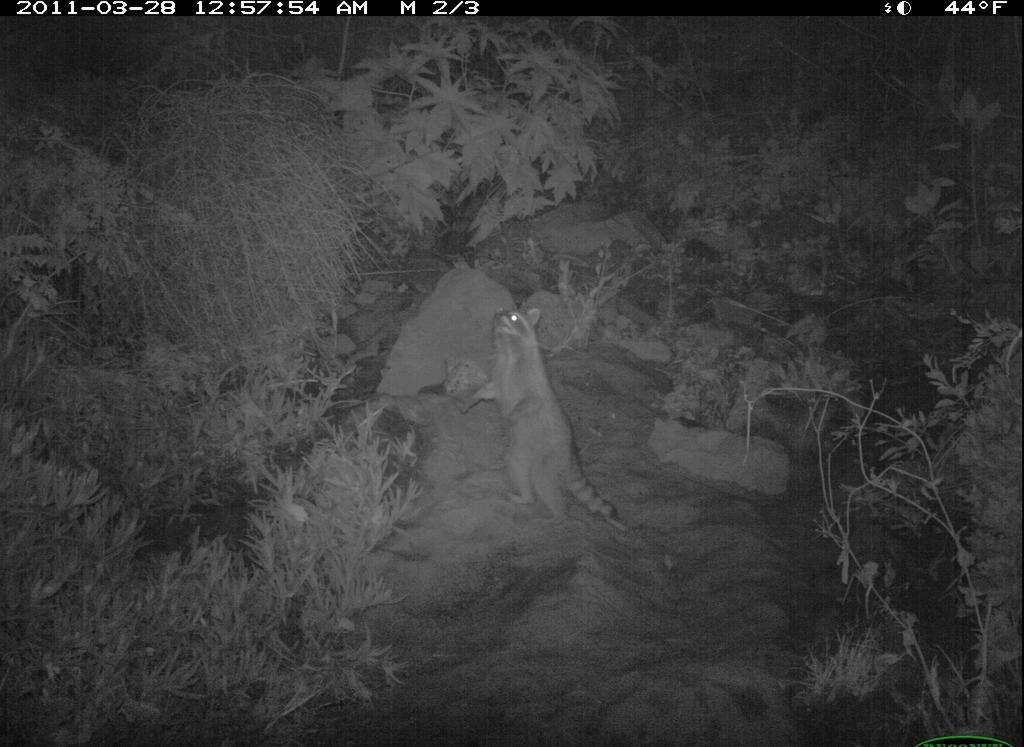raccoon: (456, 303, 635, 532)
